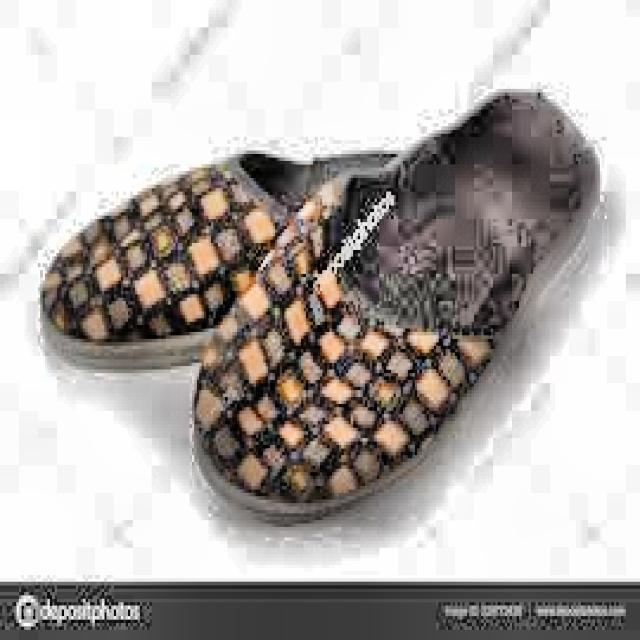shoes: (29, 84, 601, 525)
